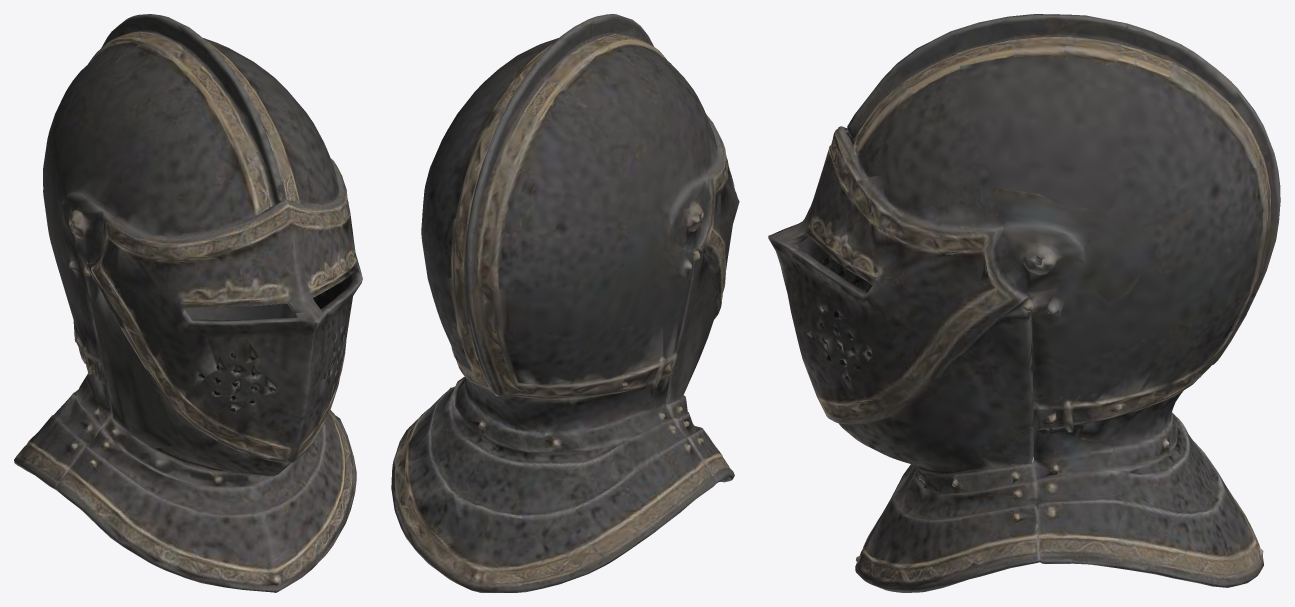
Rendered from helm-knight.glb.
3 views of the same model, side by side, from view 1: azimuth 30°, elevation 25°; view 2: azimuth 150°, elevation 25°; view 3: azimuth 270°, elevation 25° (orthographic). The views are drawn at different scales.
Bounding box in the file's own units: 1.15 × 1.9 × 1.58.
Materials: 1 (1 with a texture image).
